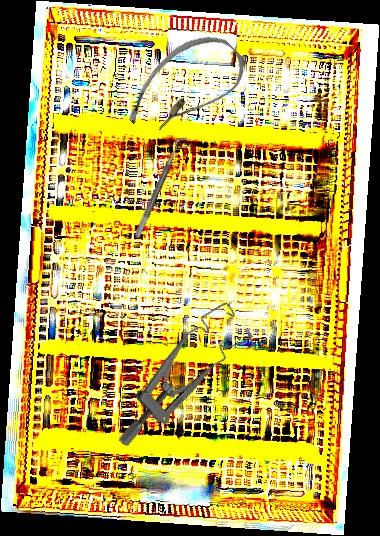Cannula: (116, 19, 255, 157)
Fixation Ring: (133, 134, 194, 242)
Speculum: (85, 297, 270, 451)
